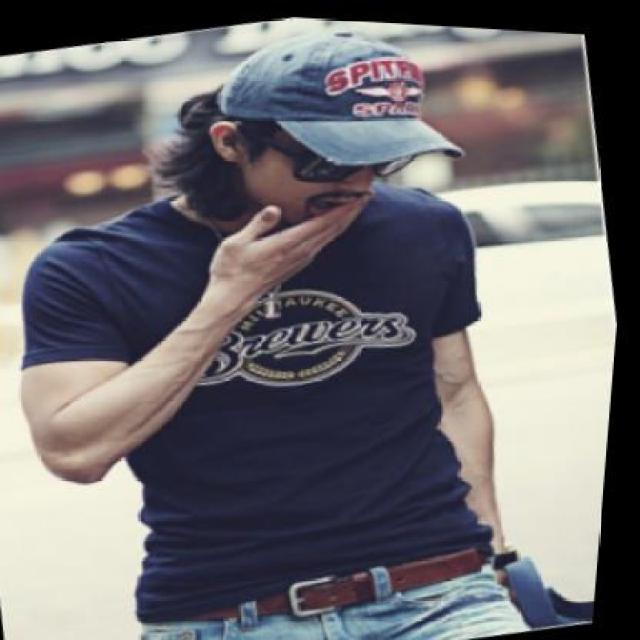hat: (202, 10, 476, 196)
